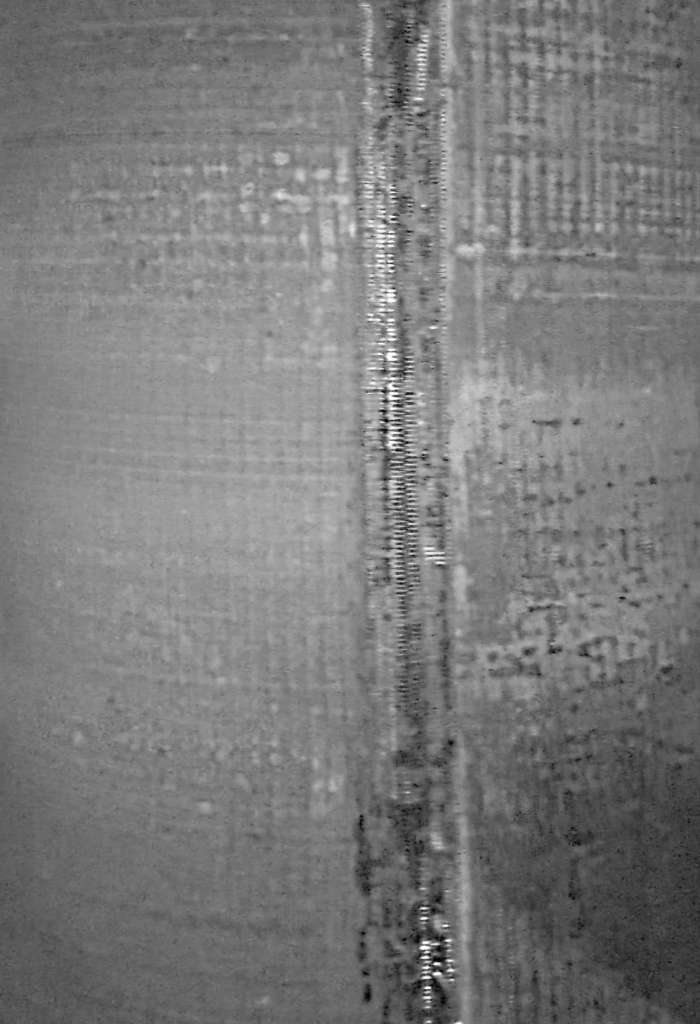splice: (337, 2, 487, 1022)
